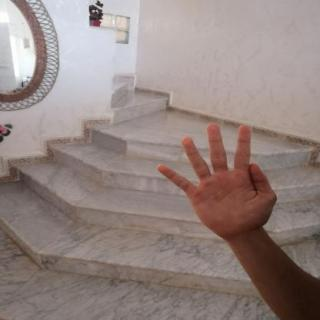SHEEN: (148, 115, 284, 248)
